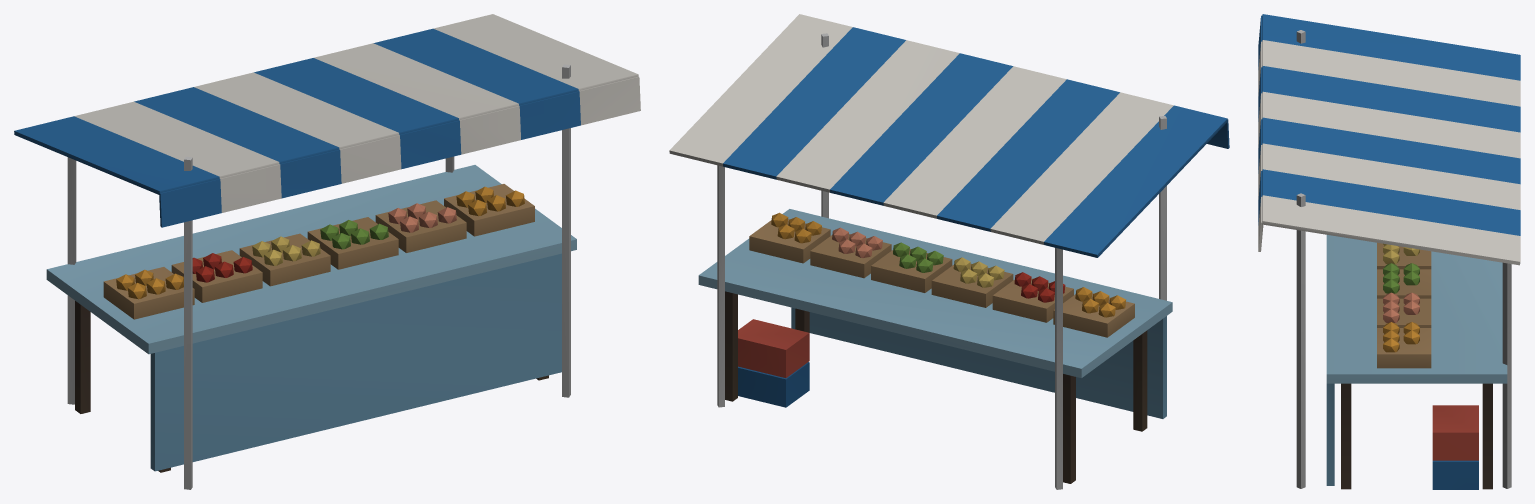
The model's file is mi_stall_lo-D1hqfsaI.glb.
The picture shows the model from 3 angles, left to right: view 1: azimuth 30°, elevation 25°; view 2: azimuth 150°, elevation 25°; view 3: azimuth 270°, elevation 25°; orthographic projection. The views are drawn at different scales.
Size of the model in its own units: 3.8 by 2.5 by 2.03.
